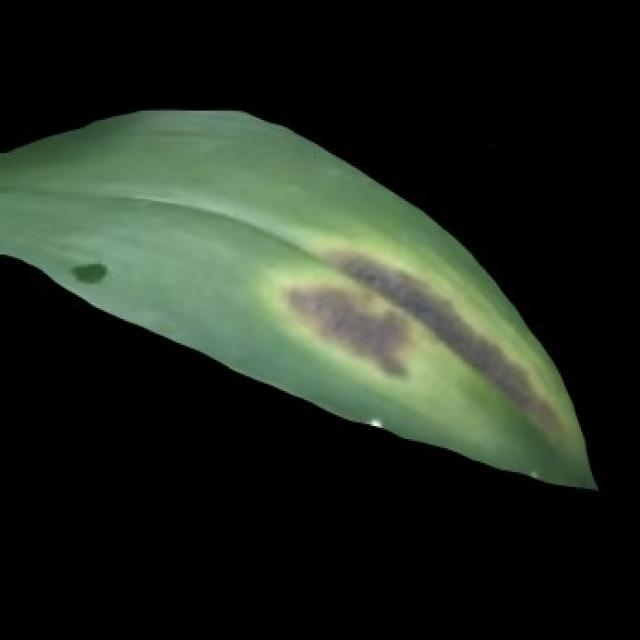mite: (44, 238, 136, 306), (59, 251, 118, 293), (68, 260, 109, 284)
spots: (0, 103, 601, 494)
sunburn: (279, 243, 570, 452), (280, 279, 415, 382)
